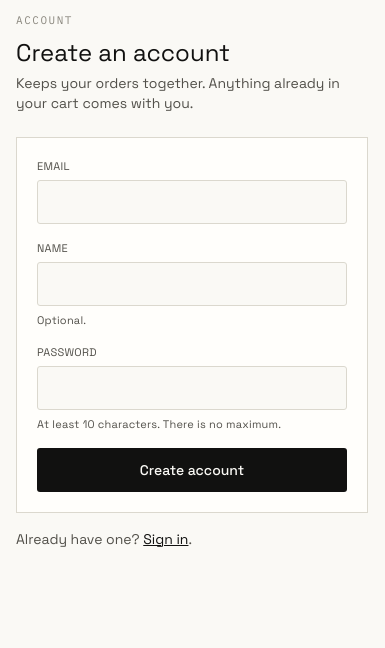
Scenario: signing up › refuses a short password before making a request
The width and height of the screenshot is (385, 648).
In the field labelled "Email": (192, 202) [37, 180, 347, 224], type "new@example.test"
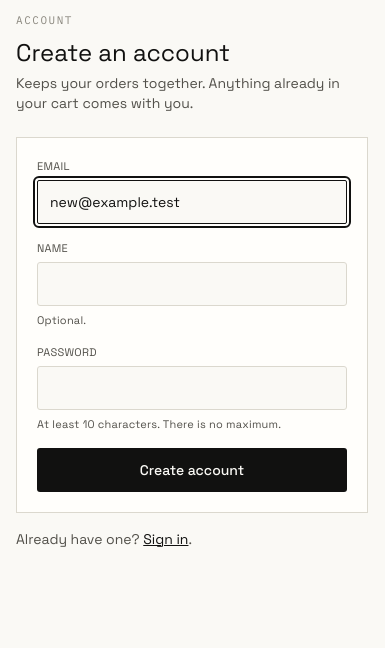
In the password field labelled "Password": (192, 388) [37, 366, 347, 410], type "short"
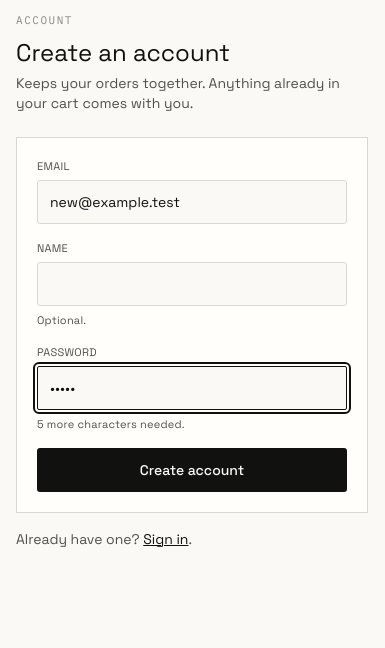
Click the button "Create account": (192, 470) [37, 448, 347, 492]
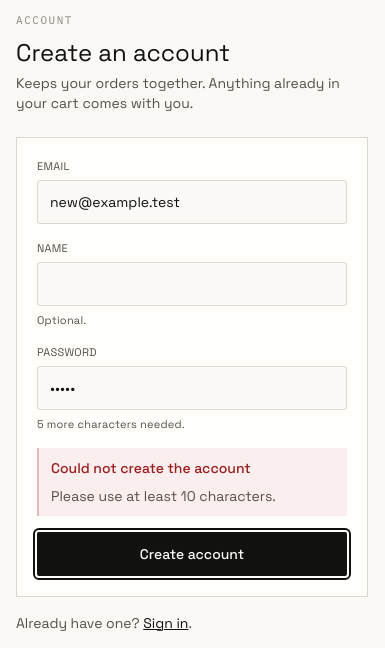
expect the text "Please use at least 10 characters." is shown: met, box [51, 486, 276, 504]
